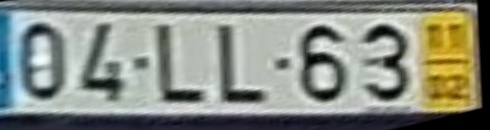0: (18, 20, 68, 104)
3: (360, 20, 412, 105)
4: (77, 21, 129, 107)
6: (298, 22, 348, 105)
L: (155, 22, 209, 105), (217, 22, 269, 106)
